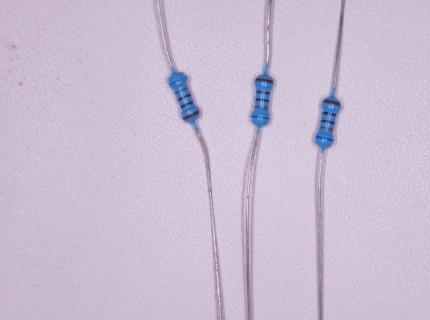Black band: (180, 100, 193, 109), (178, 94, 191, 102), (321, 119, 335, 125), (322, 112, 337, 117), (256, 98, 269, 103), (257, 91, 270, 95)
Blue band: (169, 77, 187, 86), (316, 137, 333, 142), (252, 116, 270, 120)
Brown band: (183, 110, 199, 121), (323, 99, 341, 107), (255, 78, 273, 83)
Grey band: (174, 86, 188, 94), (255, 105, 269, 111), (320, 126, 333, 132)
